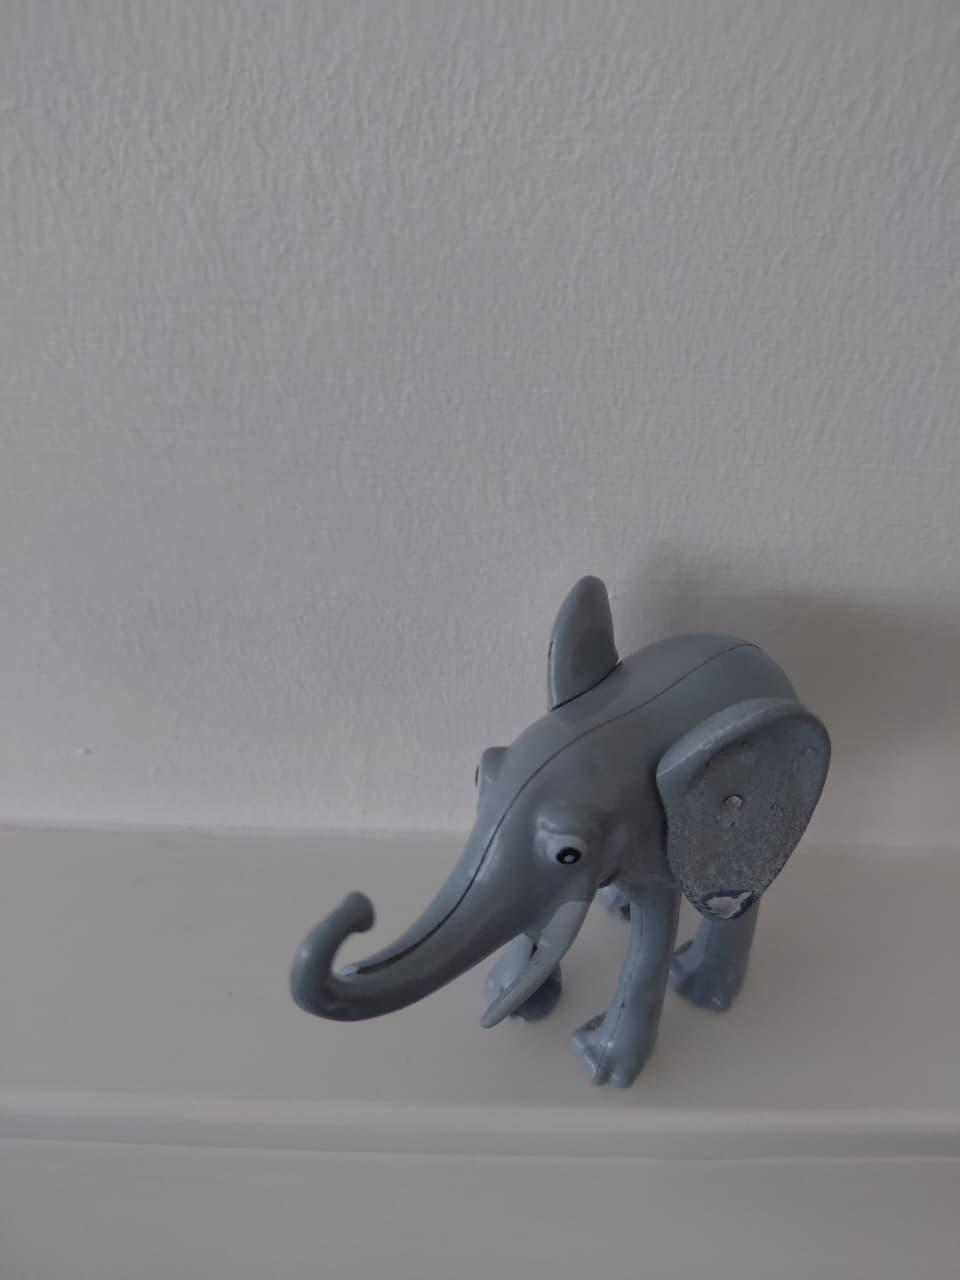elephant: (233, 555, 884, 1109)
